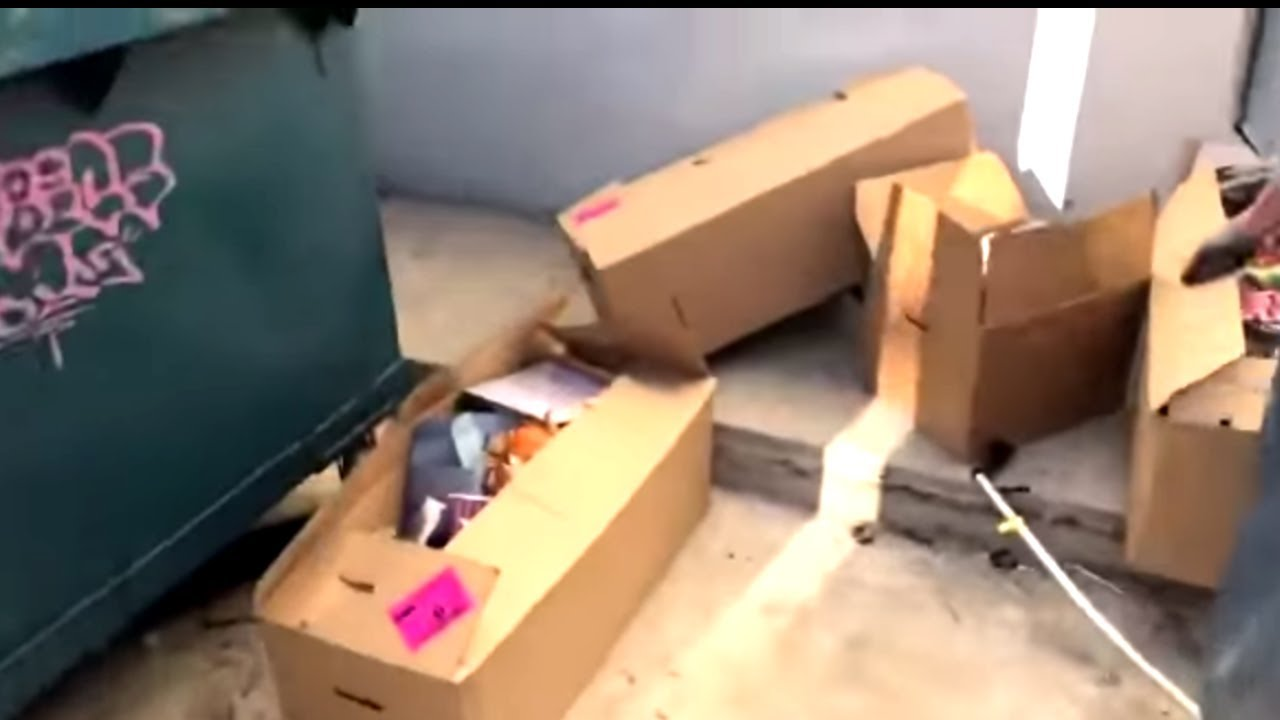Dumpster: (1, 1, 424, 707)
